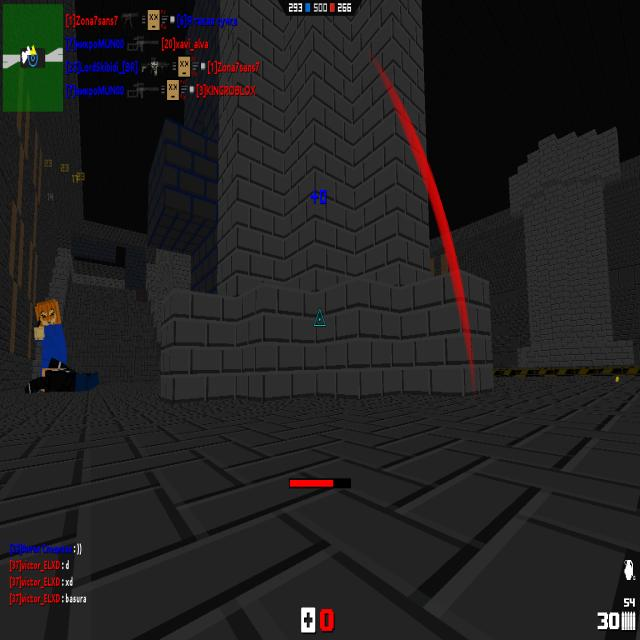enemy: (34, 295, 64, 383)
